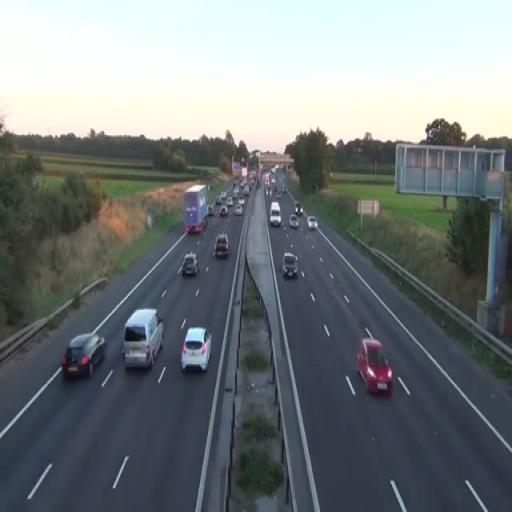Car: (122, 308, 164, 370), (356, 337, 394, 397), (61, 332, 107, 379), (180, 326, 212, 374), (182, 252, 200, 277), (282, 252, 298, 278), (214, 234, 230, 258), (270, 202, 281, 228), (289, 213, 299, 229), (220, 204, 228, 218)
Truck: (184, 184, 208, 234)
